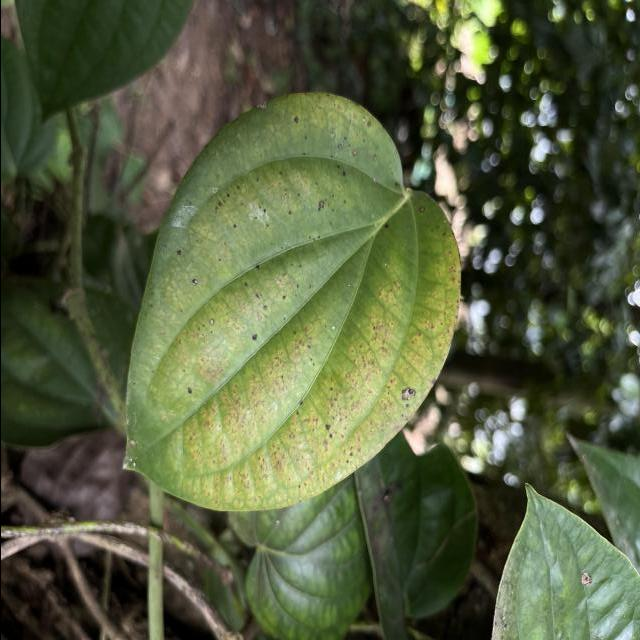Piper nigrum: (118, 88, 462, 514)
